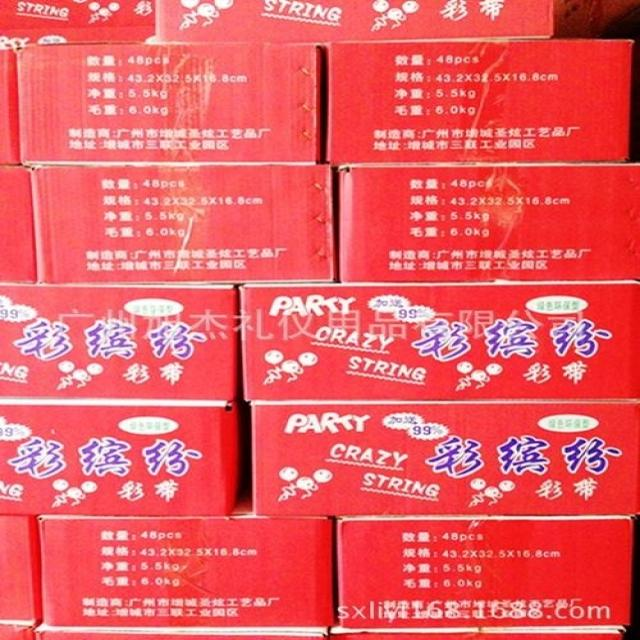box: (236, 281, 639, 405), (245, 402, 639, 516), (326, 40, 636, 164), (15, 45, 323, 165), (335, 162, 639, 283), (33, 165, 336, 285), (339, 516, 639, 628), (39, 518, 337, 628), (0, 284, 239, 402), (0, 400, 243, 516), (156, 0, 553, 46), (0, 164, 35, 285), (35, 626, 332, 639), (328, 627, 625, 639), (0, 48, 22, 166), (0, 624, 42, 639)
